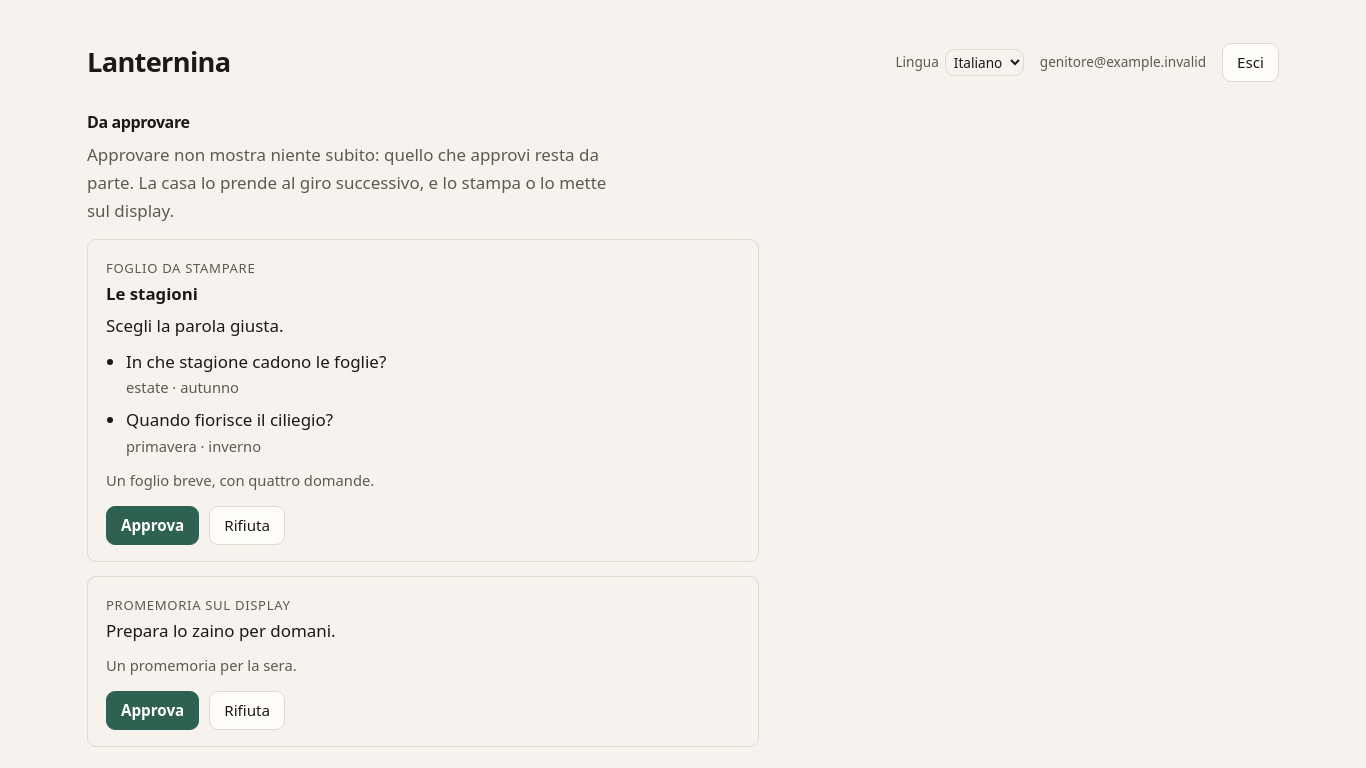
Test: to approve › says so and lets the parent try again when the decision does not get through
Expected: the heading "Le stagioni" is shown, [106,282,198,305]
Click the button "Approva" below "Un foglio breve, con quattro domande.".
click(153, 526)  # box [106,506,199,545]
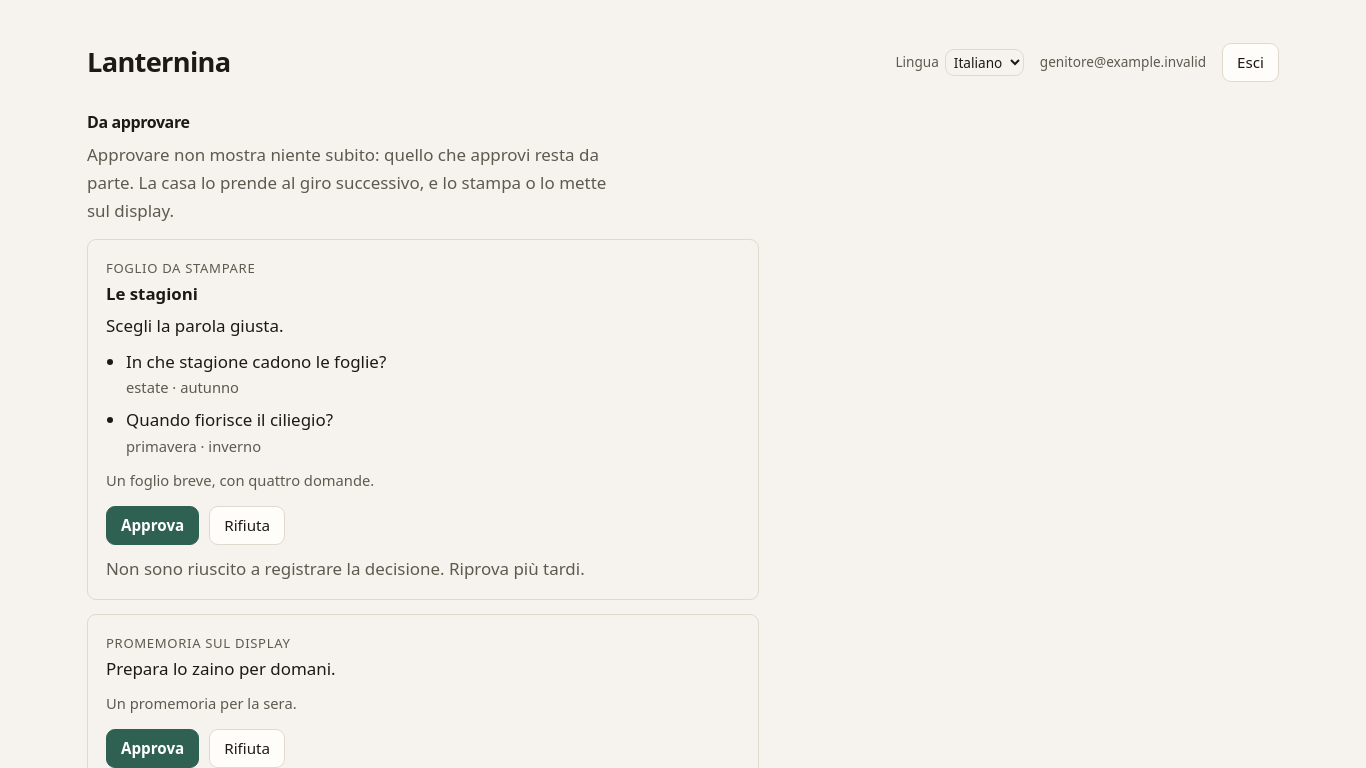
Expected: the heading "Le stagioni" is shown, [106,282,198,305]
Now the text "Non sono riuscito a registrare la decisione. Riprova più tardi." is shown, box [106,555,650,583]
